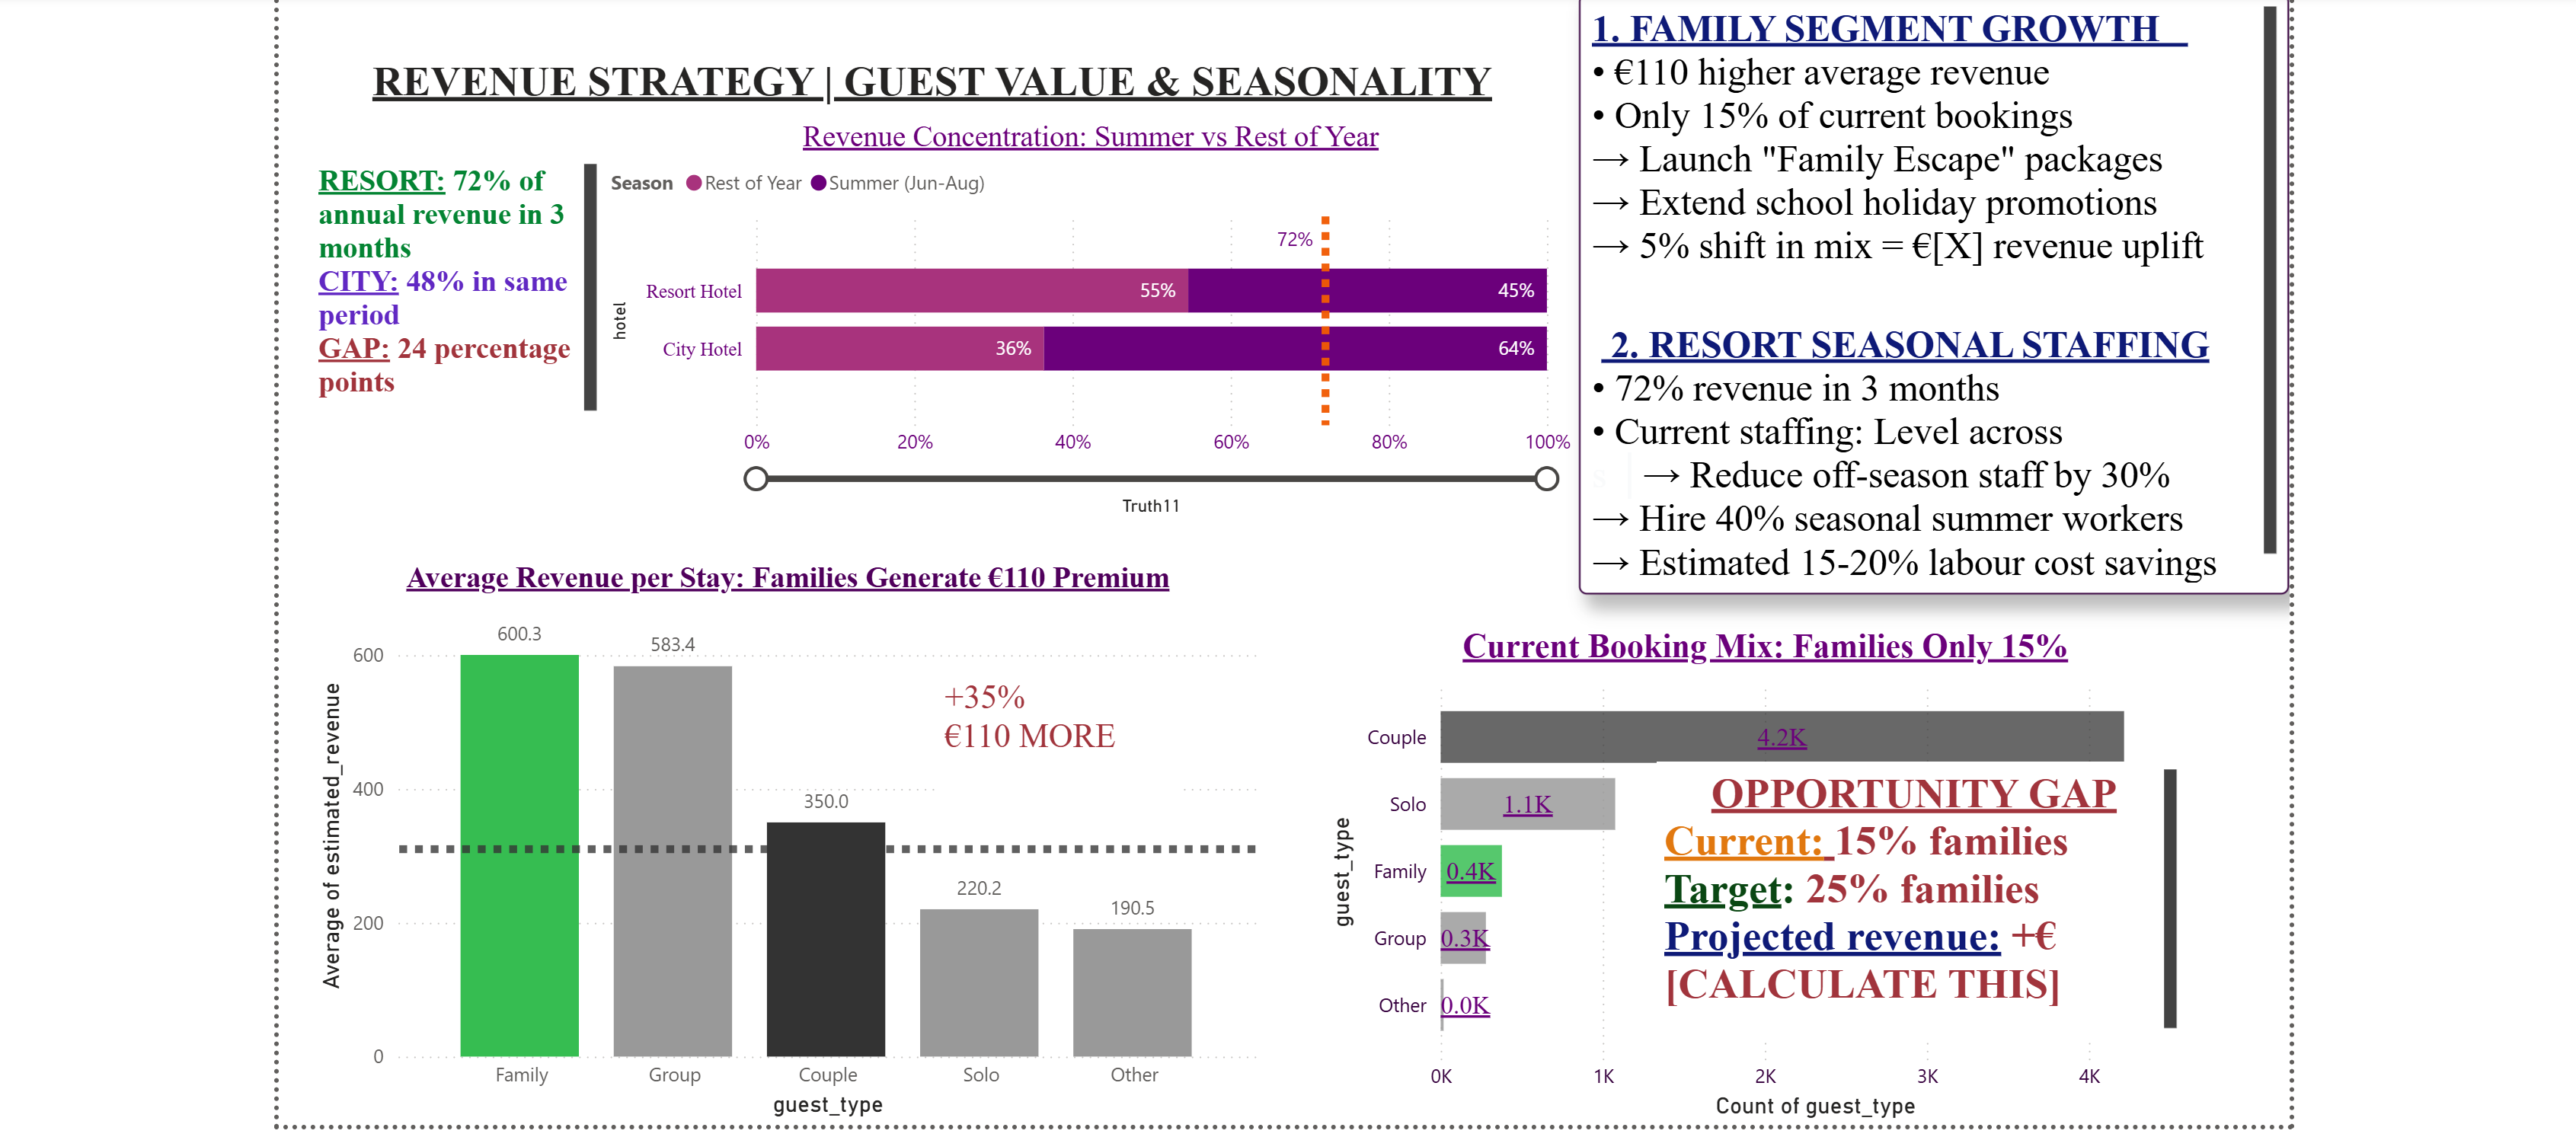

This screenshot's page, from the dashboard's own definition file:
{"tool":"powerbi","page":{"name":"Revenue&Segments","canvas":[1280,720],"ordinal":2},"visuals":[{"type":"textbox","box":[19.9,0,791.2,102.6],"z":0},{"type":"clusteredColumnChart","title":"Average Revenue per Stay: Families Generate €110 Premium","fields":{"Category":["hotel_analysis_enhanced.guest_type"],"Y":["hotel_analysis_enhanced.estimated_revenue"]},"box":[19.9,360.8,607.4,359.2],"z":1},{"type":"textbox","box":[418.8,430.3,153.9,81.1],"z":2},{"type":"barChart","title":"Current Booking Mix: Families Only 15%","fields":{"Category":["hotel_analysis_enhanced.guest_type"],"Y":["hotel_analysis_enhanced.guest_type"]},"box":[663.7,402.2,566.1,317.8],"z":3},{"type":"textbox","box":[877.2,488.3,336,177.1],"z":4},{"type":"hundredPercentStackedBarChart","title":"Revenue Concentration: Summer vs Rest of Year","fields":{"Series":["hotel_analysis_enhanced.Season"],"Category":["hotel_analysis_enhanced.hotel"],"Y":["hotel_analysis_enhanced.Truth11"]},"box":[206.9,79.4,620.7,256.6],"z":5},{"type":"textbox","box":[19.9,102.6,187,172.1],"z":6},{"type":"textbox","box":[827.6,0,451.9,382.3],"z":7}]}

Visuals, with their boxes on the page's 1280x720 design canvas (x1, y1, x2, y2). These are canvas units, not pixel positions in the 2576x1137 screenshot, which may show the page scaled, cropped or inside an application window:
textbox: (20, 0, 811, 103)
"Average Revenue per Stay: Families Generate €110 Premium" clusteredColumnChart: (20, 361, 627, 720)
textbox: (419, 430, 573, 511)
"Current Booking Mix: Families Only 15%" barChart: (664, 402, 1230, 720)
textbox: (877, 488, 1213, 665)
"Revenue Concentration: Summer vs Rest of Year" hundredPercentStackedBarChart: (207, 79, 828, 336)
textbox: (20, 103, 207, 275)
textbox: (828, 0, 1280, 382)
